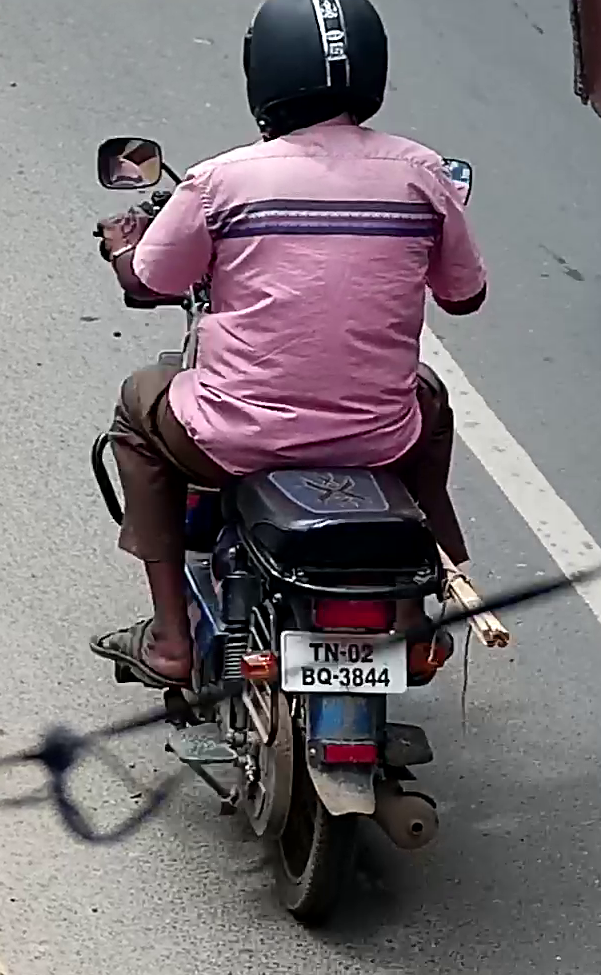-: (333, 674, 339, 680), (340, 650, 346, 655)
0: (347, 643, 360, 663)
2: (361, 642, 373, 663)
3: (339, 667, 350, 686)
4: (364, 667, 377, 687), (377, 667, 390, 687)
8: (351, 667, 364, 687)
B: (301, 666, 315, 686)
N: (324, 642, 339, 663)
P16: (278, 628, 409, 696)
Q: (316, 666, 332, 686)
T: (308, 642, 324, 662)
